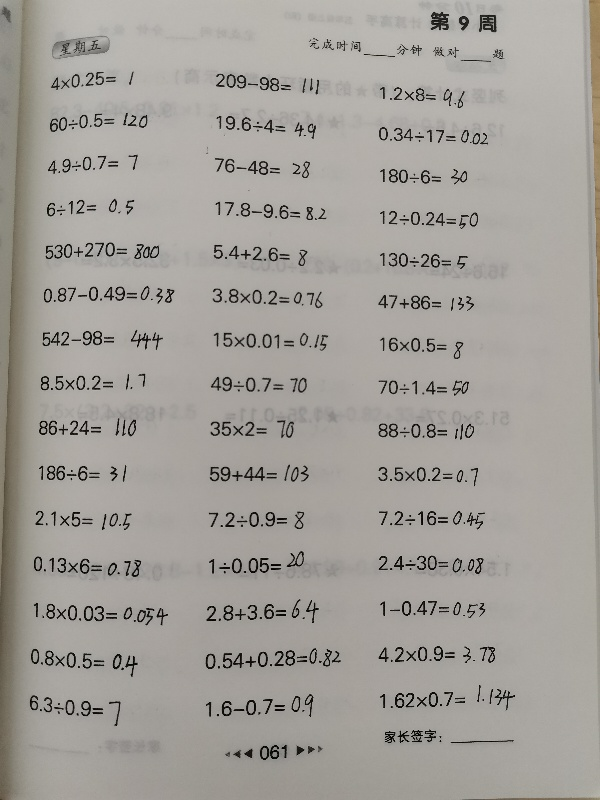equation: (376, 681, 518, 712), (201, 645, 344, 671), (30, 601, 171, 627), (202, 595, 322, 625), (202, 690, 318, 721), (26, 645, 141, 674), (40, 283, 178, 307), (25, 694, 124, 727), (37, 327, 170, 351), (374, 641, 499, 666), (42, 239, 164, 264), (210, 328, 331, 353), (208, 286, 326, 311), (202, 153, 314, 179), (29, 554, 145, 579), (376, 596, 489, 621), (375, 506, 488, 531), (375, 551, 487, 576), (36, 415, 143, 441), (374, 463, 481, 489), (211, 200, 330, 223), (43, 66, 144, 93), (36, 370, 149, 394), (205, 508, 309, 534), (374, 124, 491, 147), (206, 551, 309, 577), (376, 207, 482, 232), (212, 71, 322, 95), (31, 508, 135, 533), (206, 462, 313, 486), (212, 113, 319, 137), (45, 109, 151, 133), (209, 242, 310, 267), (375, 333, 467, 360), (374, 419, 478, 442), (36, 461, 131, 486), (207, 373, 310, 396), (374, 291, 477, 314), (207, 416, 298, 442), (44, 151, 141, 175), (376, 82, 468, 107), (42, 195, 137, 219), (375, 377, 473, 400), (377, 165, 472, 188), (376, 249, 471, 271)
